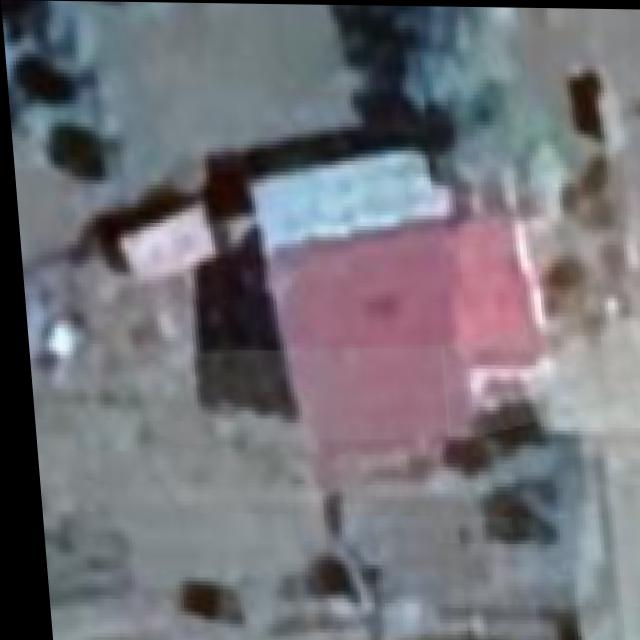Batiment: (247, 149, 449, 252), (114, 204, 210, 280)
